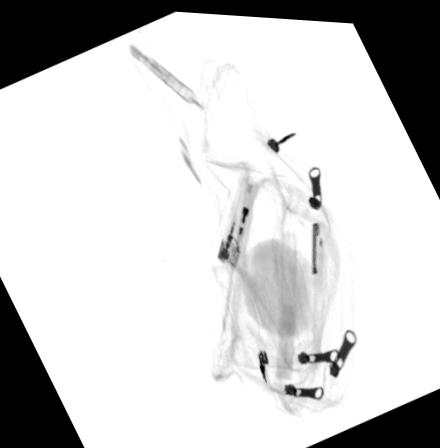Lighter: (215, 167, 261, 264)
